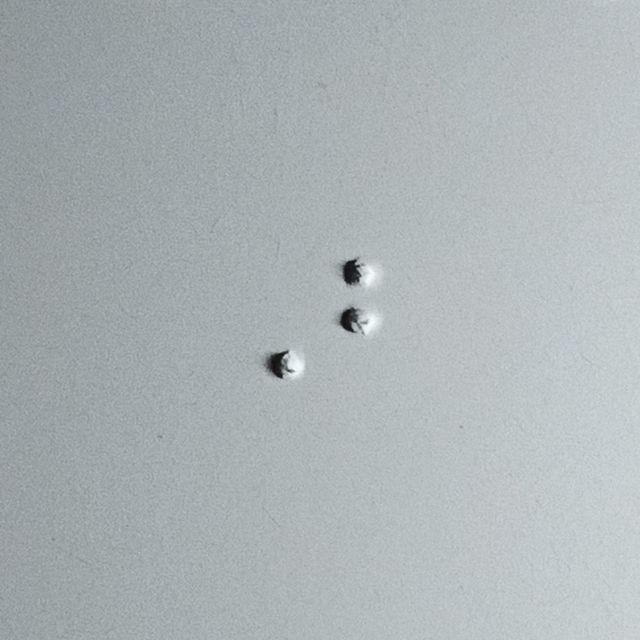B: (340, 256, 424, 384)
capital: (221, 257, 305, 385)
